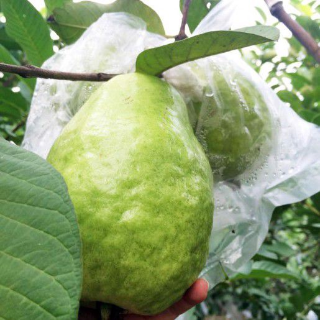oi: (36, 65, 210, 313)
